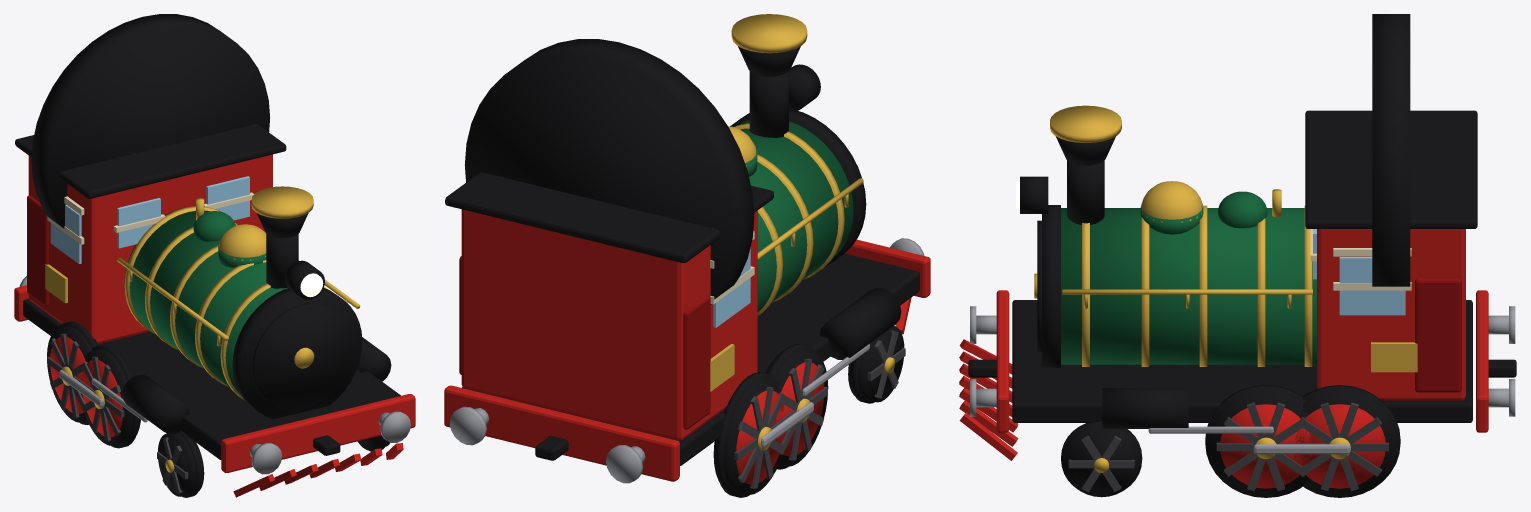
Rendered from locomotora.glb.
3 views of the same model, side by side, from view 1: azimuth 30°, elevation 25°; view 2: azimuth 150°, elevation 25°; view 3: azimuth 270°, elevation 25° (orthographic). The views are drawn at different scales.
Visible parts, largest first — view 1: p_techo, p_chasis, p_caldera, p_cabina, p_chimenea, p_cupula, p_quitapiedras, p_faro; view 2: p_cabina, p_techo, p_chasis, p_caldera, p_chimenea, p_faro, p_cupula; view 3: p_chasis, p_caldera, p_techo, p_cabina, p_chimenea, p_cupula, p_quitapiedras, p_faro.
Part boxes in pixels (<box>): p_techo: <box>15,14,286,228</box>; p_chasis: <box>14,276,415,497</box>; p_caldera: <box>117,206,362,419</box>; p_cabina: <box>27,154,272,343</box>; p_chimenea: <box>251,186,313,288</box>; p_cupula: <box>193,198,266,267</box>; p_quitapiedras: <box>233,443,403,497</box>; p_faro: <box>284,260,324,299</box>; p_cabina: <box>459,209,757,440</box>; p_techo: <box>445,39,773,304</box>; p_chasis: <box>444,238,930,497</box>; p_caldera: <box>730,111,866,315</box>; p_chimenea: <box>731,14,807,137</box>; p_faro: <box>789,64,820,111</box>; p_cupula: <box>728,126,757,176</box>; p_chasis: <box>968,290,1516,497</box>; p_caldera: <box>1034,205,1316,367</box>; p_techo: <box>1305,14,1477,286</box>; p_cabina: <box>1310,229,1465,400</box>; p_chimenea: <box>1050,105,1121,224</box>; p_cupula: <box>1140,181,1281,234</box>; p_quitapiedras: <box>959,339,1018,460</box>; p_faro: <box>1016,176,1048,213</box>.
Size of the model in its own units: 1.98 by 2.93 by 3.56.
